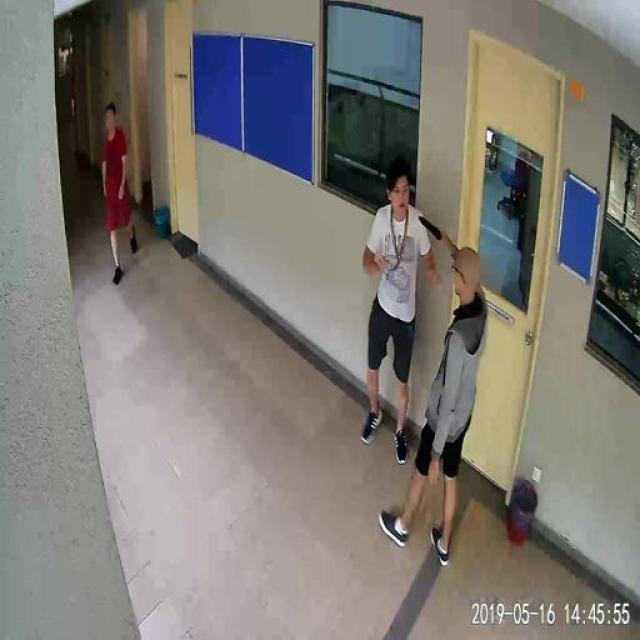Gun: (409, 205, 447, 247)
